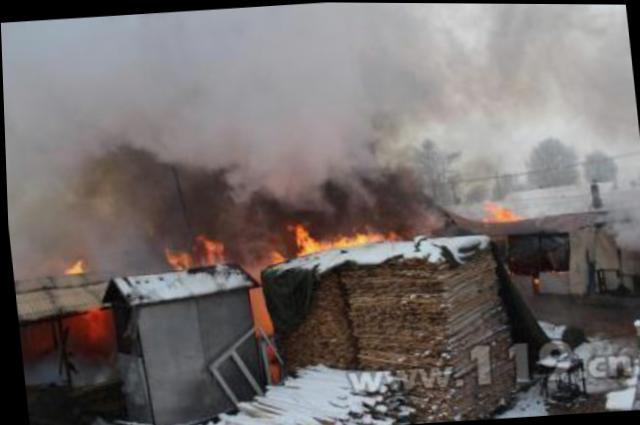fire: (310, 232, 374, 247), (197, 233, 222, 262), (290, 220, 310, 251), (161, 250, 190, 266), (488, 202, 516, 218), (58, 260, 81, 271)
